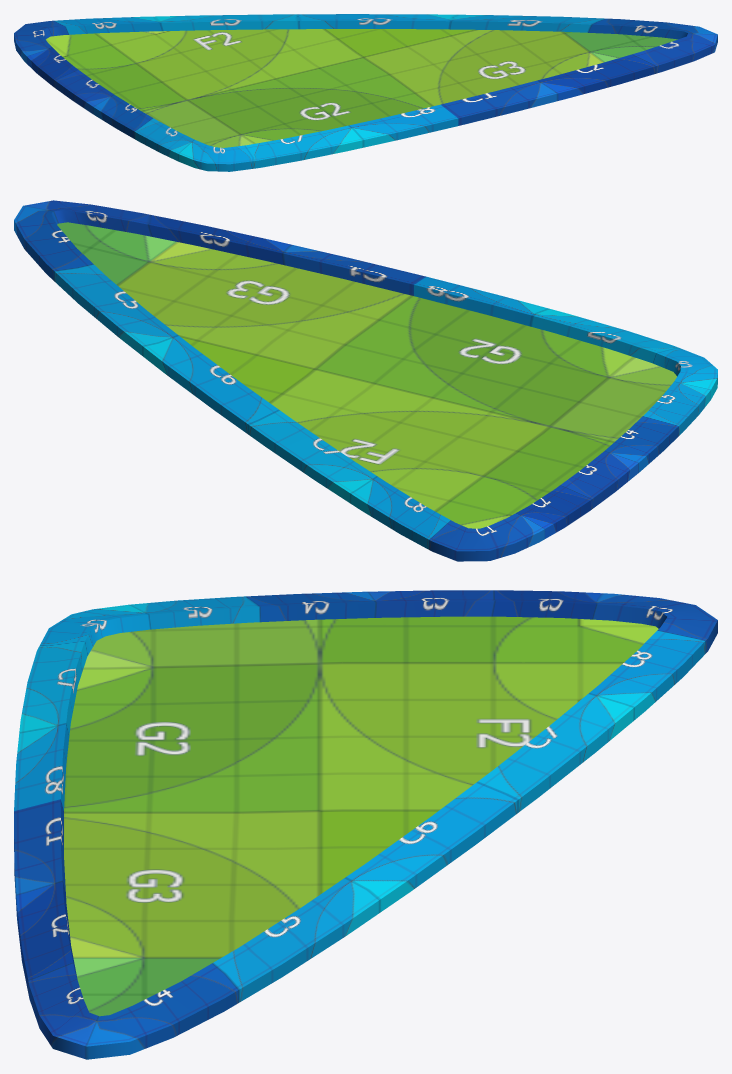
File: GrassBorder4.fbx
3 renders of one model, top to bottom at view 1: azimuth 30°, elevation 25°; view 2: azimuth 150°, elevation 25°; view 3: azimuth 270°, elevation 25°, orthographic. The views are drawn at different scales.
Parts seen in each view (by area): view 1: GrassBorder4; view 2: GrassBorder4; view 3: GrassBorder4.
Boxes of the visible parts, bbox=[...] form: GrassBorder4: bbox=[14, 14, 717, 171]; GrassBorder4: bbox=[14, 200, 717, 561]; GrassBorder4: bbox=[14, 590, 717, 1059].
Bounding box in the file's own units: 14.58 × 0.3205 × 9.51.
1 material, 1 textured.
